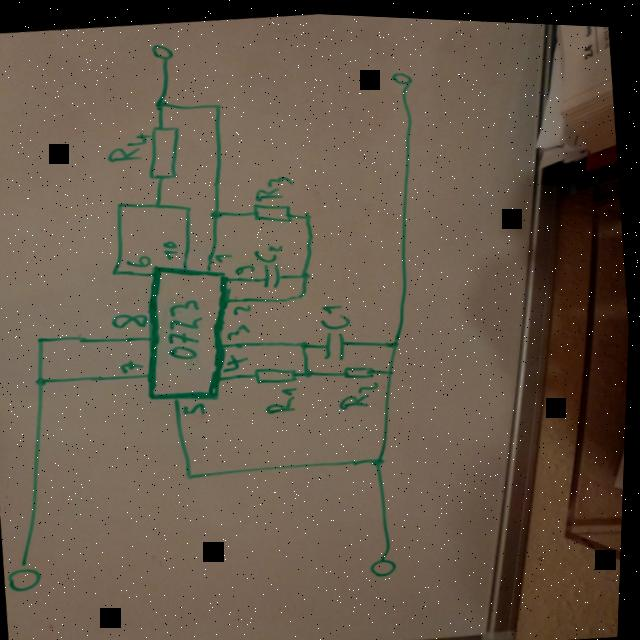capacitor: (317, 324, 358, 360), (256, 259, 291, 287)
junction: (150, 93, 173, 112), (207, 202, 228, 220), (371, 449, 391, 465), (33, 372, 53, 388), (387, 334, 406, 348), (291, 288, 311, 301), (298, 265, 316, 279), (301, 364, 318, 378), (298, 335, 314, 348), (302, 205, 316, 219), (209, 97, 224, 109), (34, 333, 49, 344), (113, 198, 128, 209), (385, 363, 400, 374), (110, 265, 123, 276), (152, 199, 166, 208), (180, 201, 194, 210), (187, 469, 198, 479)
resistor: (141, 119, 188, 183), (250, 196, 297, 224), (252, 359, 301, 384), (340, 358, 381, 378)
terminal: (8, 558, 50, 594), (367, 548, 404, 575), (387, 65, 418, 89), (146, 38, 177, 62)
text: (163, 292, 211, 361), (103, 125, 153, 164), (336, 373, 384, 410), (252, 169, 296, 201), (264, 380, 305, 414), (316, 296, 355, 330), (111, 307, 152, 330), (251, 239, 287, 263), (222, 348, 253, 372), (225, 318, 255, 340), (119, 355, 148, 374), (182, 397, 212, 415), (125, 250, 154, 268), (161, 237, 182, 260), (230, 299, 256, 316), (234, 259, 257, 274), (215, 249, 236, 262)
